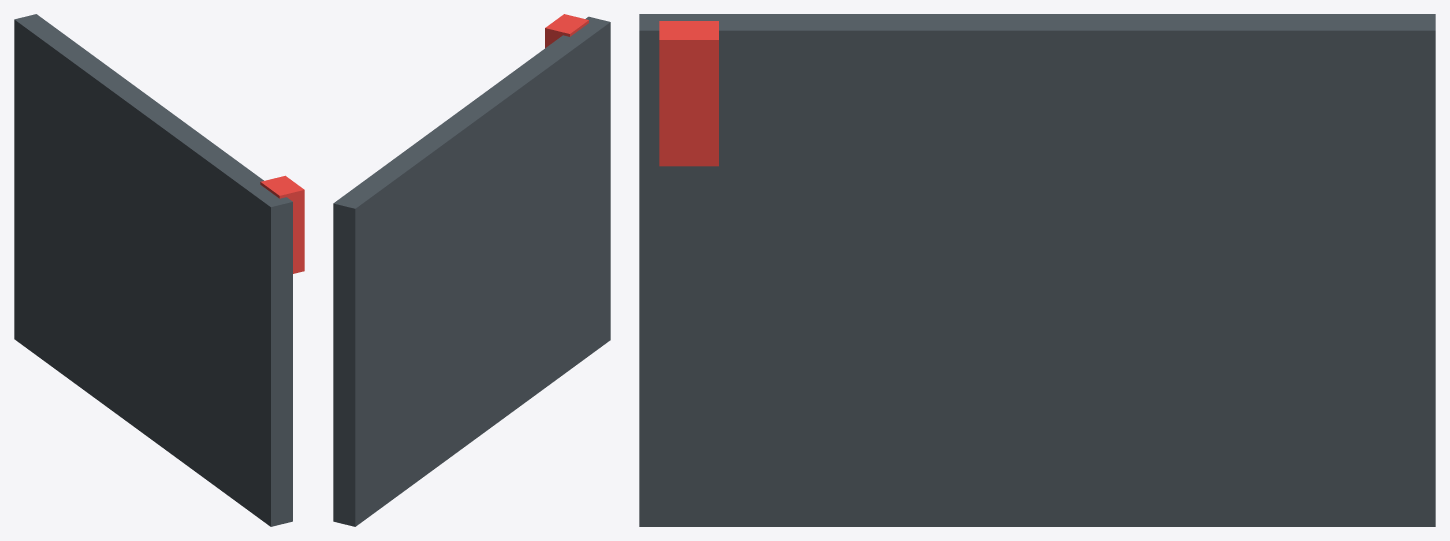
The model's file is wall.service_panel_wall.glb.
3 renders of one model, left to right at view 1: azimuth 30°, elevation 25°; view 2: azimuth 150°, elevation 25°; view 3: azimuth 270°, elevation 25°, orthographic. The views are drawn at different scales.
Visible parts, largest first — view 1: service_panel, panel_light; view 2: service_panel, panel_light; view 3: service_panel, panel_light.
Boxes of the visible parts, x1,y1,x2,y2 form: service_panel: (14, 14, 292, 526); panel_light: (260, 175, 304, 273); service_panel: (333, 16, 610, 526); panel_light: (545, 14, 588, 47); service_panel: (639, 14, 1435, 526); panel_light: (659, 21, 718, 166).
Size of what is drawn, in the model's own units: 0.145 by 1.11 by 1.6.
